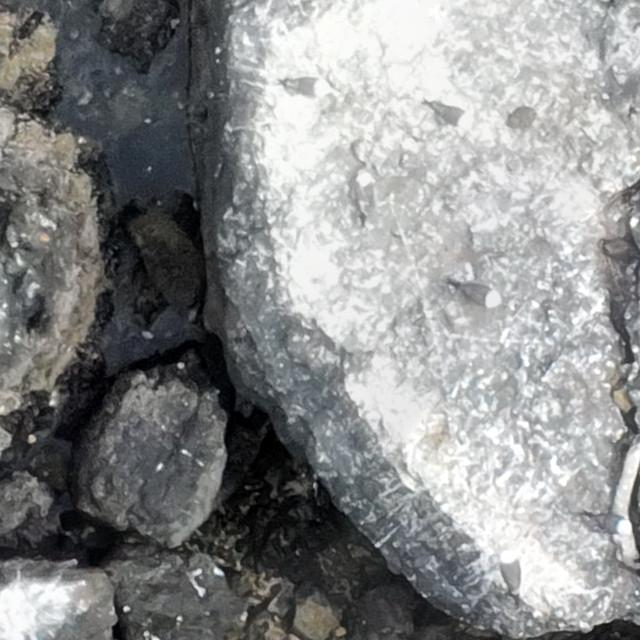umineko: (424, 100, 476, 127), (455, 282, 501, 310), (286, 77, 334, 101), (355, 170, 374, 222), (594, 514, 632, 532), (502, 556, 516, 590)
